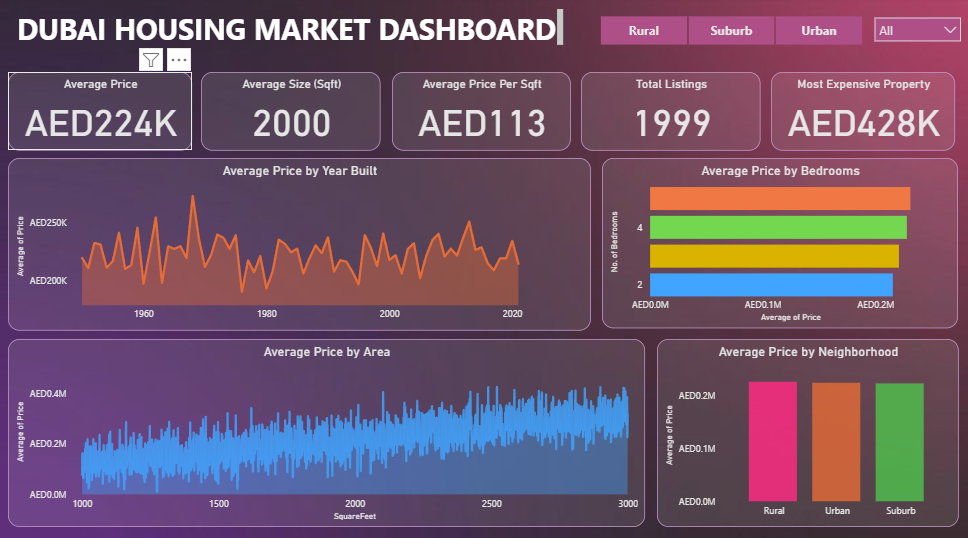

The page's visual inventory and layout, read from the dashboard file:
{"tool":"powerbi","page":{"name":"Dashboard","canvas":[1280,720],"ordinal":0},"visuals":[{"type":"lineChart","title":"Average Price by Year Built","fields":{"Category":["housing_price_dataset.YearBuilt"],"Y":["Avg(housing_price_dataset.Price)"]},"box":[15.5,210.3,762.6,225.8],"z":0},{"type":"columnChart","title":"Average Price by Neighborhood","fields":{"Category":["housing_price_dataset.Neighborhood"],"Y":["Avg(housing_price_dataset.Price)"]},"box":[865.8,447.7,394.8,246.5],"z":1000},{"type":"areaChart","title":"Average Price by Area","fields":{"Category":["housing_price_dataset.SquareFeet"],"Y":["Avg(housing_price_dataset.Price)"]},"box":[15.5,447.7,833.5,246.5],"z":2000},{"type":"slicer","fields":{"Values":["housing_price_dataset.Neighborhood"]},"box":[766.1,18,392,51.3],"z":3000},{"type":"slicer","fields":{"Values":["housing_price_dataset.YearBuilt"]},"box":[1140.1,16.6,133,54],"z":4000},{"type":"textbox","box":[27.7,15.2,714.8,48.5],"z":5000},{"type":"card","title":"Average Price Per Sqft","fields":{"Values":["Avg(housing_price_dataset.PricePerSqft)"]},"box":[518.1,98.4,234.1,102.5],"z":6000},{"type":"card","title":"Most Expensive Property","fields":{"Values":["Max(housing_price_dataset.Price)"]},"box":[1014,98.4,241,102.5],"z":7000},{"type":"card","title":"Average Size (Sqft)","fields":{"Values":["Avg(housing_price_dataset.SquareFeet)"]},"box":[268.7,98.4,235.5,102.5],"z":8000},{"type":"card","title":"Average Price","fields":{"Values":["Avg(housing_price_dataset.Price)"]},"box":[15.2,98.4,241,102.5],"z":9000},{"type":"card","title":"Total Listings","fields":{"Values":["CountNonNull(housing_price_dataset.Price)"]},"box":[766.1,98.4,235.5,102.5],"z":10000},{"type":"barChart","title":"Average Price by Bedrooms","fields":{"Y":["Avg(housing_price_dataset.Price)"],"Category":["housing_price_dataset.Bedrooms"]},"box":[793.5,210.3,465.8,223.2],"z":11000}]}

Visuals, with their boxes in screenshot pixels (x1, y1, x2, y2), scaled from the page's 1280x720 canvas onto the 968x538 screenshot:
"Average Price by Year Built" lineChart: bbox=[12, 157, 588, 326]
"Average Price by Neighborhood" columnChart: bbox=[655, 335, 953, 519]
"Average Price by Area" areaChart: bbox=[12, 335, 642, 519]
slicer - housing_price_dataset.Neighborhood: bbox=[579, 13, 876, 52]
slicer - housing_price_dataset.YearBuilt: bbox=[862, 12, 963, 53]
textbox: bbox=[21, 11, 562, 48]
"Average Price Per Sqft" card: bbox=[392, 74, 569, 150]
"Most Expensive Property" card: bbox=[767, 74, 949, 150]
"Average Size (Sqft)" card: bbox=[203, 74, 381, 150]
"Average Price" card: bbox=[11, 74, 194, 150]
"Total Listings" card: bbox=[579, 74, 757, 150]
"Average Price by Bedrooms" barChart: bbox=[600, 157, 952, 324]
